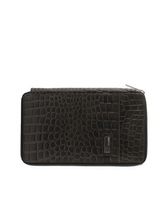other: (14, 80, 152, 167)
